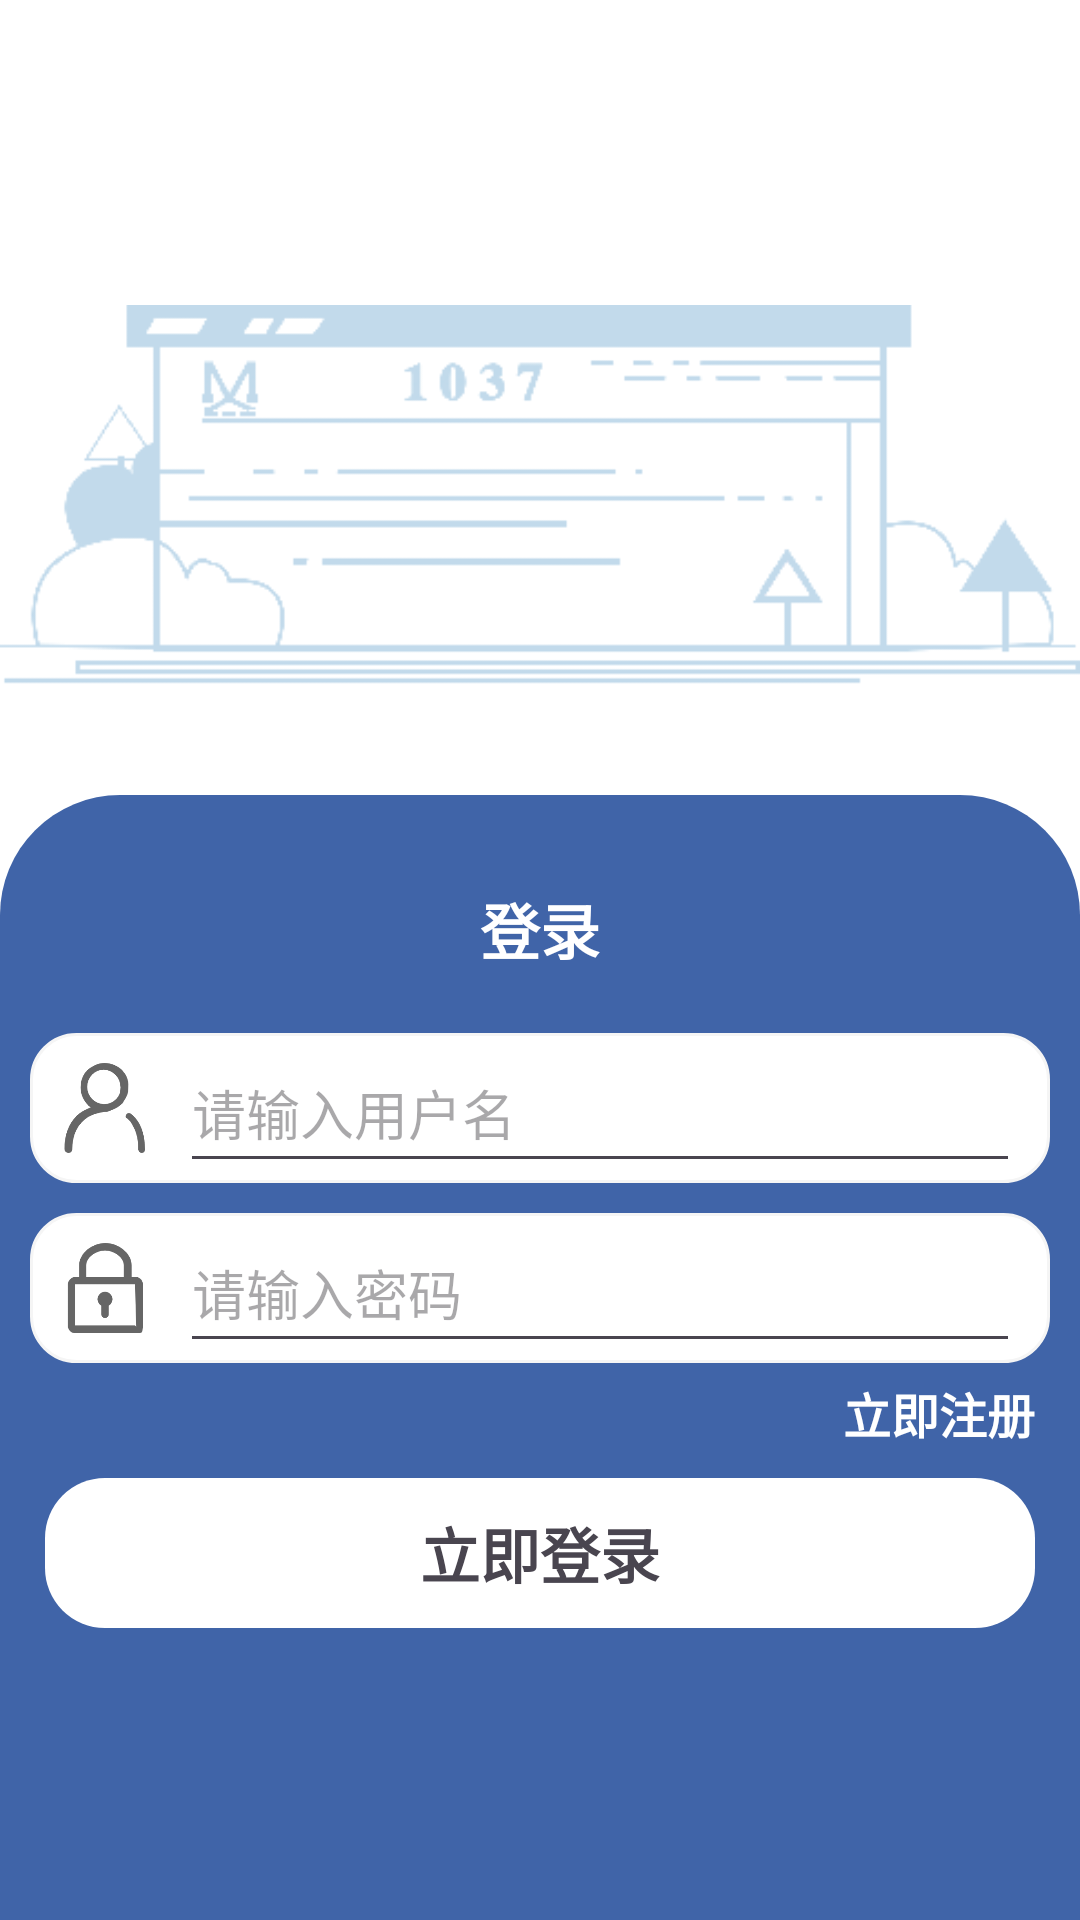

Named icons in this screenshot (1080px x 1920px) and their bounding boxes, detection(x1, y1, x2, y2):
password: detection(68, 1243, 143, 1333)
user: detection(64, 1063, 145, 1153)
